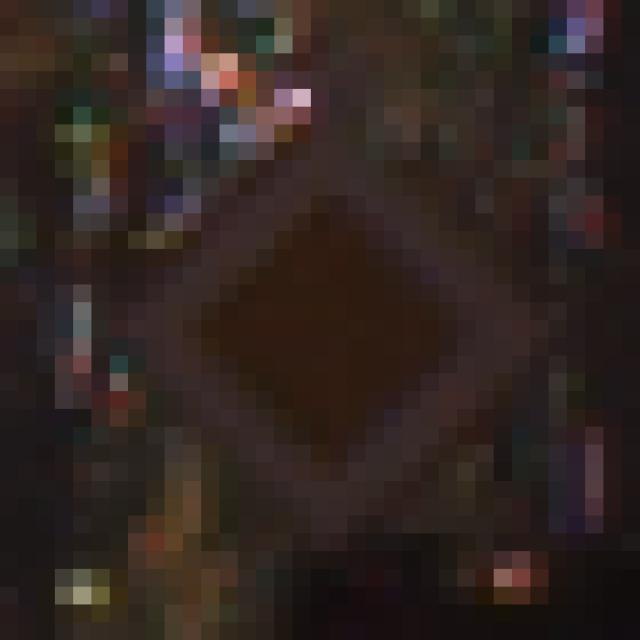Main Road: (93, 90, 550, 552)
